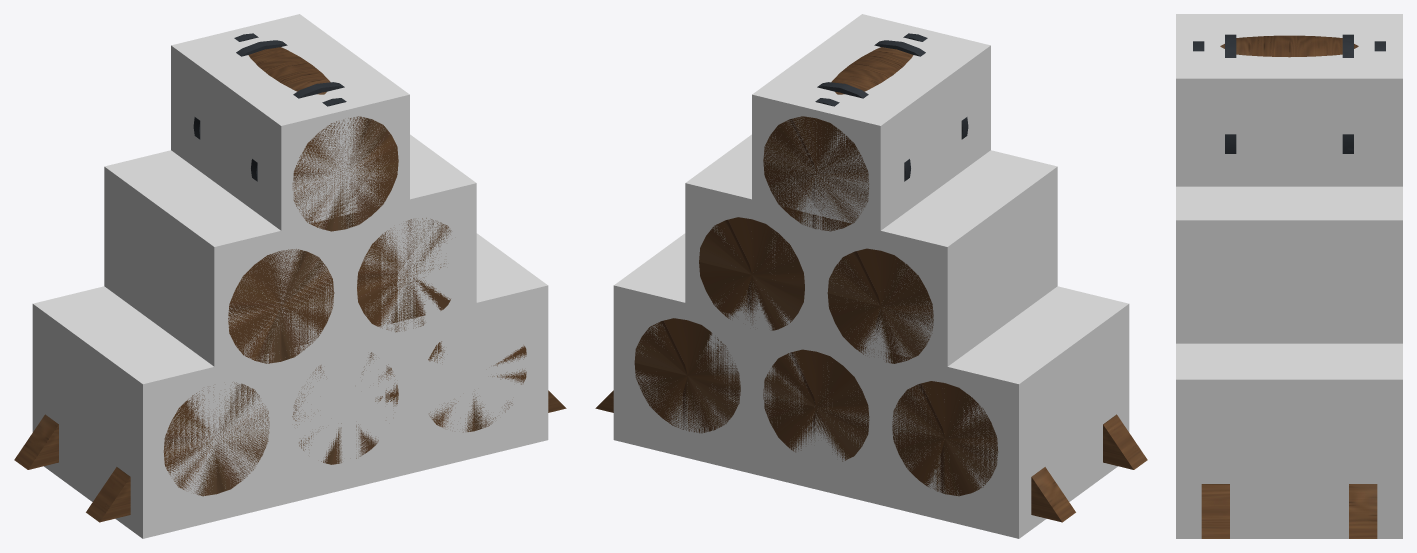
File: settlement_inn_undercroft_barrel_stack.gltf
The picture shows the model from 3 angles, left to right: view 1: azimuth 30°, elevation 25°; view 2: azimuth 150°, elevation 25°; view 3: azimuth 270°, elevation 25°; orthographic projection. The views are drawn at different scales.
Parts seen in each view (by area): view 1: settlement_inn_undercroft_barrel_stack_col, settlement_inn_undercroft_barrel_stack_LOD0; view 2: settlement_inn_undercroft_barrel_stack_col, settlement_inn_undercroft_barrel_stack_LOD0; view 3: settlement_inn_undercroft_barrel_stack_col, settlement_inn_undercroft_barrel_stack_LOD0.
Part boxes in pixels (<box>): settlement_inn_undercroft_barrel_stack_col: <box>32,14,548,538</box>; settlement_inn_undercroft_barrel_stack_LOD0: <box>14,33,566,522</box>; settlement_inn_undercroft_barrel_stack_col: <box>613,14,1129,538</box>; settlement_inn_undercroft_barrel_stack_LOD0: <box>595,33,1147,522</box>; settlement_inn_undercroft_barrel_stack_col: <box>1176,14,1402,538</box>; settlement_inn_undercroft_barrel_stack_LOD0: <box>1193,34,1385,538</box>.
Size of what is drawn, in the model's own units: 1.96 by 1.54 by 0.8.
Materials: 3 (3 with a texture image).
